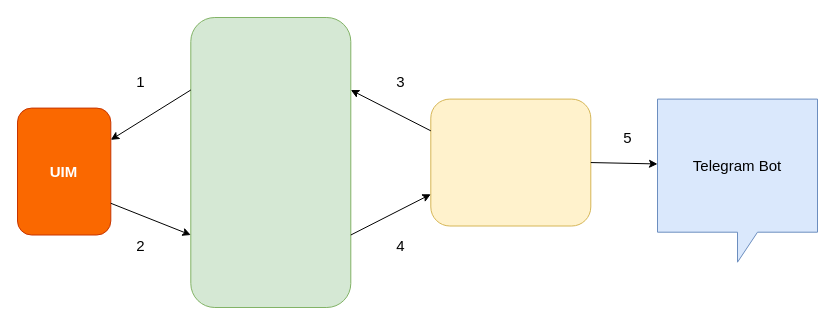
The diagram is 835 pixels wide and 325 high, and some of its shapes have lost their labels. Here are the shapes that lost their labels. From the top down, the box of each, then its label:
(190, 16, 351, 308): Aggregator
(430, 98, 591, 226): Provider
